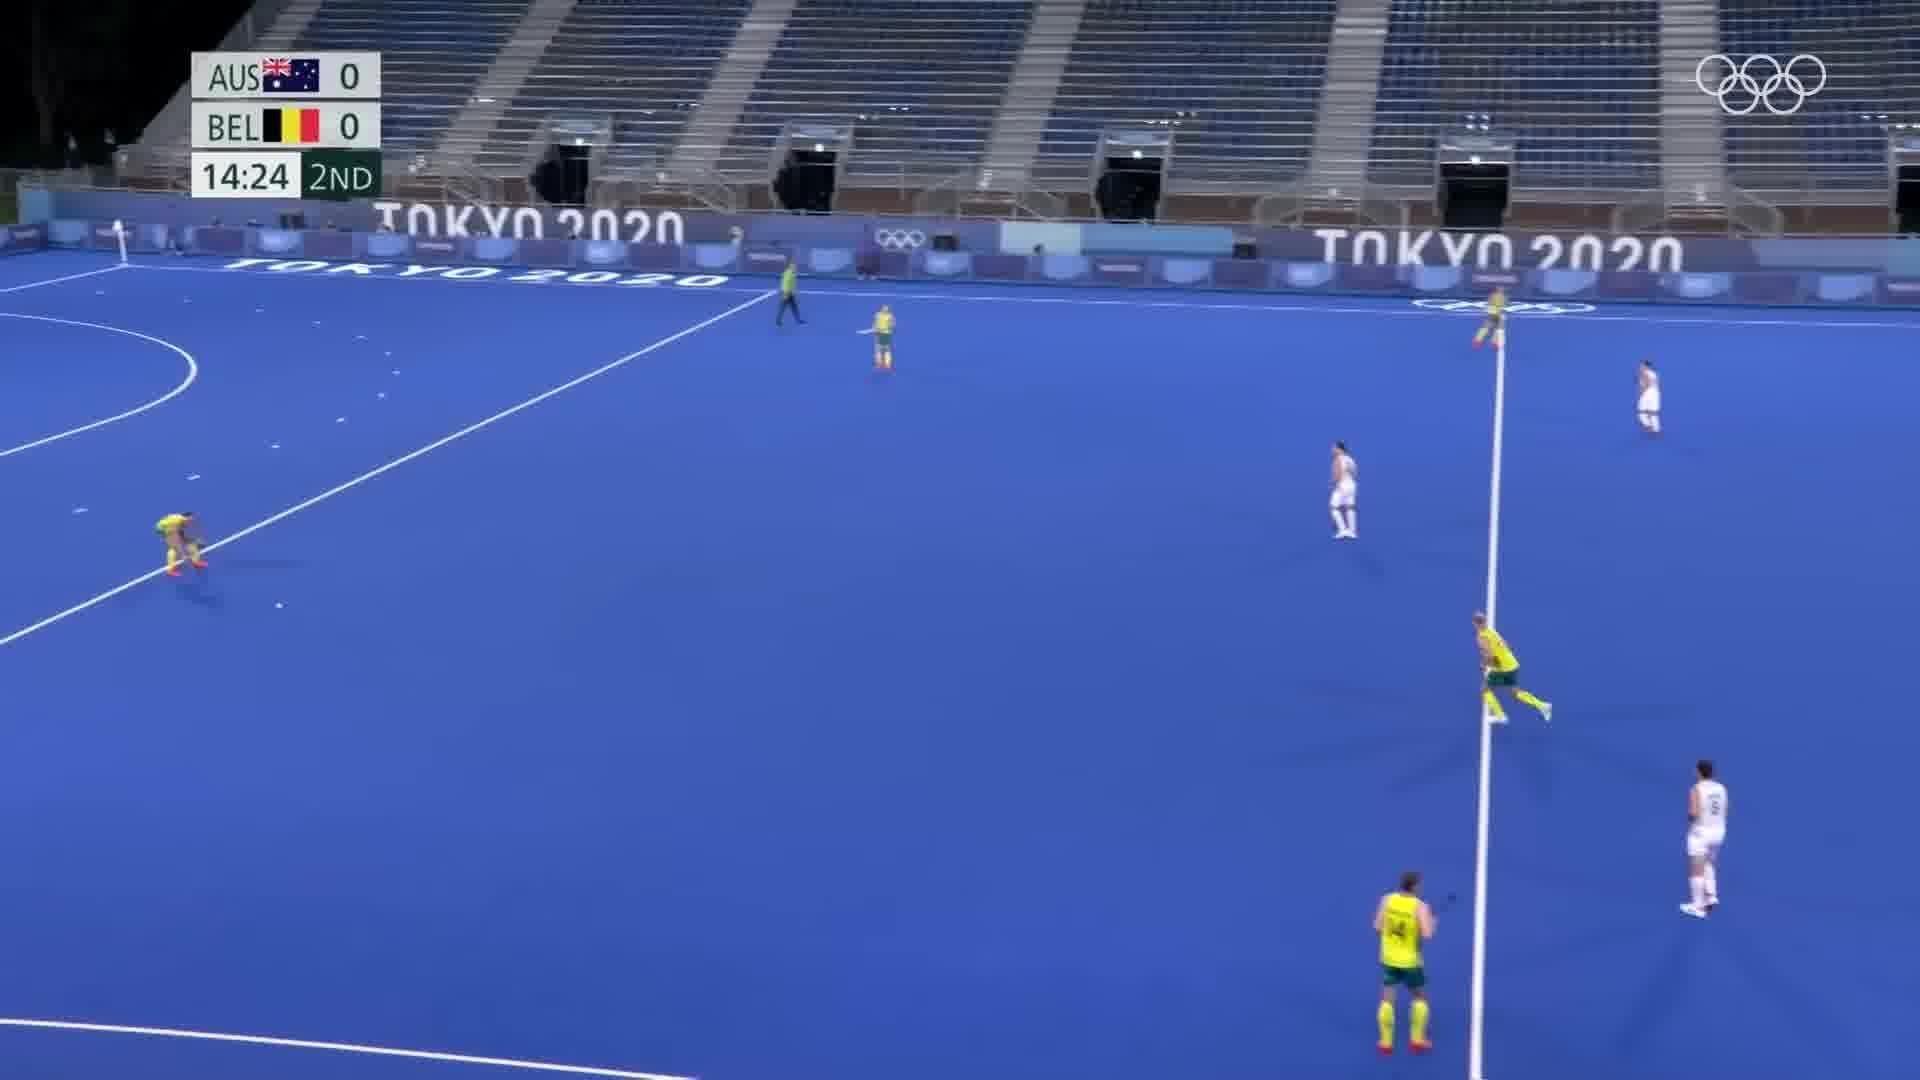ball: (270, 595, 292, 618)
